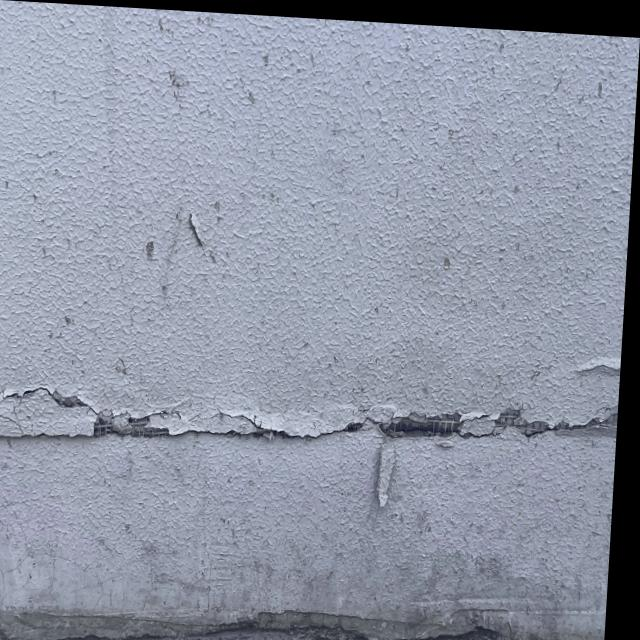spalling: (0, 352, 615, 534)
